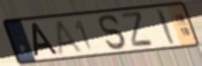1: (74, 19, 94, 52)
A: (54, 19, 86, 55), (31, 21, 60, 58)
I: (154, 7, 177, 46)
S: (98, 13, 130, 51)
Z: (120, 10, 156, 48)
